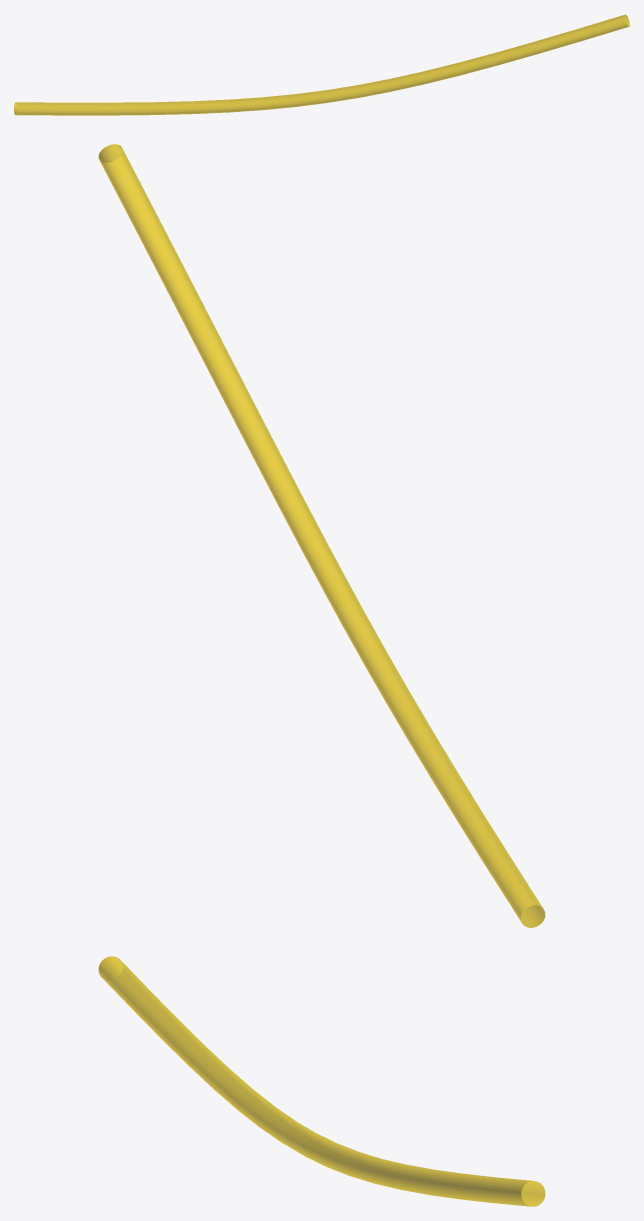
Rendered from Event_100608114_track_135.fbx.
3 renders of one model, top to bottom at view 1: azimuth 30°, elevation 25°; view 2: azimuth 150°, elevation 25°; view 3: azimuth 330°, elevation 25°, orthographic. The views are drawn at different scales.
Visible parts, largest first — view 1: Model; view 2: Model; view 3: Model.
Part boxes in pixels (x1,y1,x2,y2): Model: (14, 14, 629, 115); Model: (98, 144, 545, 927); Model: (98, 956, 545, 1206).
Bounding box in the file's own units: 1.49 × 0.4956 × 1.27.
